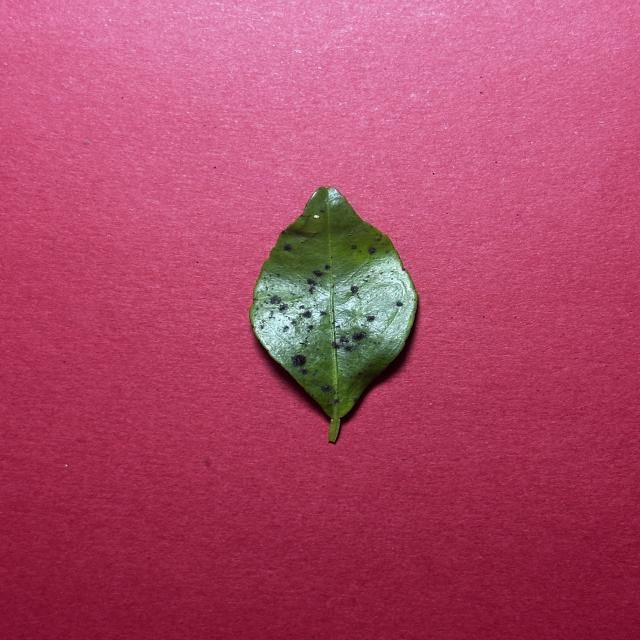sooty_mold: (250, 187, 417, 442)
